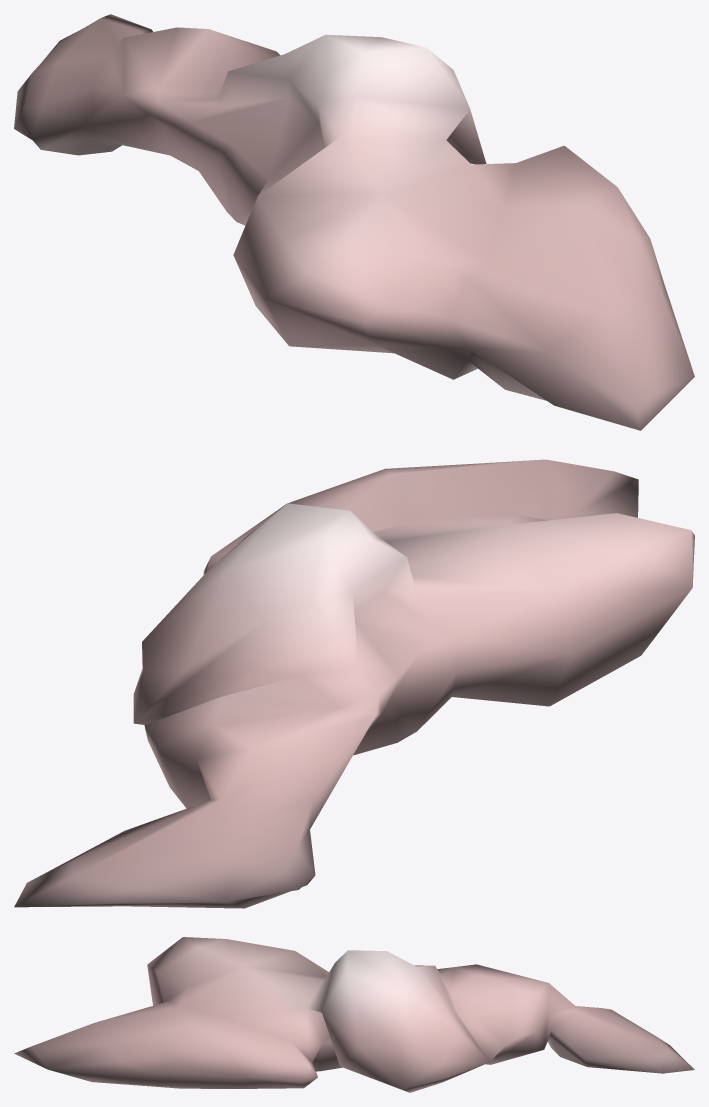
File: Cloud_1B.fbx
The picture shows the model from 3 angles, top to bottom: view 1: azimuth 30°, elevation 25°; view 2: azimuth 150°, elevation 25°; view 3: azimuth 270°, elevation 25°; orthographic projection. The views are drawn at different scales.
Parts seen in each view (by area): view 1: Cloud_1B; view 2: Cloud_1B; view 3: Cloud_1B.
Boxes of the visible parts, x1,y1,x2,y2 form: Cloud_1B: (14,14,694,430); Cloud_1B: (14,459,694,908); Cloud_1B: (14,937,694,1092).
Bounding box in the file's own units: 2588 × 1316 × 6426.
